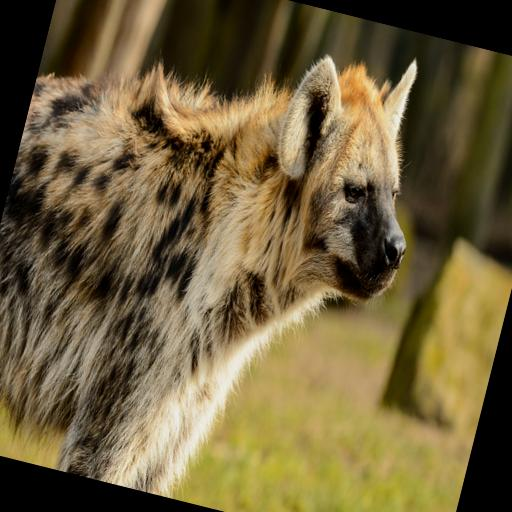hyenas: (0, 0, 458, 512)
